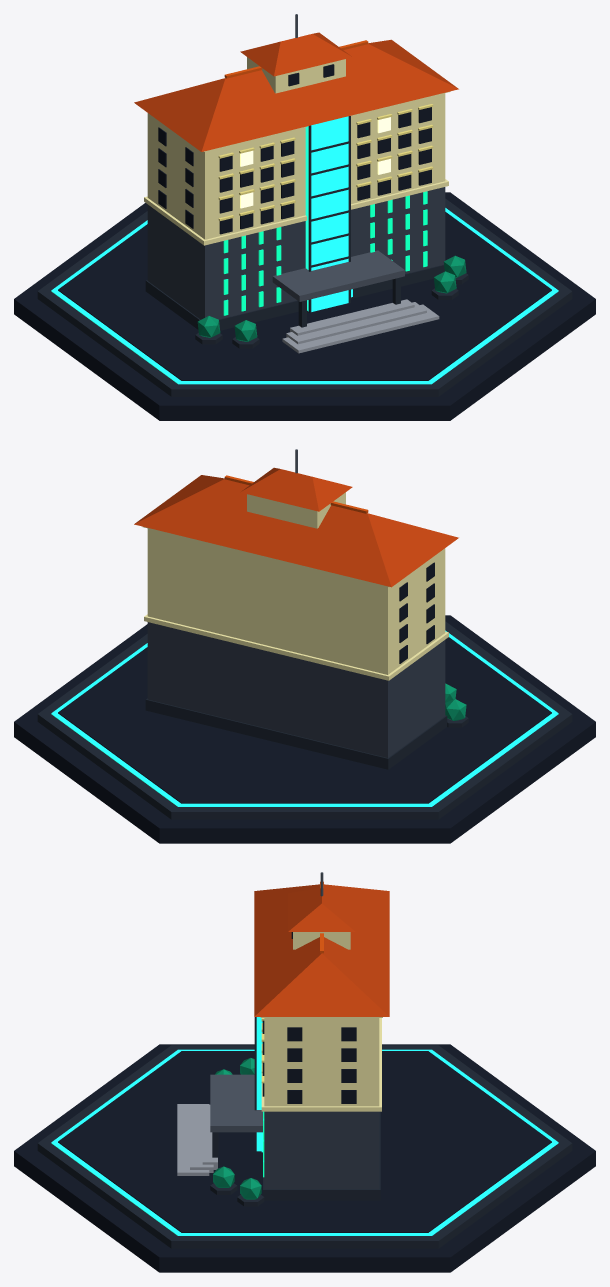
File: hcmussh_hq.glb
The picture shows the model from 3 angles, top to bottom: view 1: azimuth 30°, elevation 25°; view 2: azimuth 150°, elevation 25°; view 3: azimuth 270°, elevation 25°; orthographic projection.
Visible parts, largest first — view 1: Cylinder.003, Cylinder, Building_Lower_Charcoal, Main_Terracotta_Roof, Building_Upper_Cream, Cylinder.001, Central_Emerald_Spine, Cylinder.002, Entrance_Canopy, Pavilion_Roof, Cube, Cube.033 (+5 smaller); view 2: Cylinder.003, Building_Upper_Cream, Building_Lower_Charcoal, Cylinder, Main_Terracotta_Roof, Cylinder.001, Cube, Cylinder.002, Pavilion_Roof, Cube.033, Roof_Pavilion_Body; view 3: Cylinder.003, Cylinder, Main_Terracotta_Roof, Cylinder.001, Building_Lower_Charcoal, Building_Upper_Cream, Cylinder.002, Entrance_Canopy, Pavilion_Roof, Cube, Cube.129, Cube.033 (+4 smaller).
Part boxes in pixels (x1,y1,x2,y2): Cylinder.003: [58, 212, 551, 380]; Cylinder: [14, 192, 595, 420]; Building_Lower_Charcoal: [147, 187, 445, 319]; Main_Terracotta_Roof: [134, 39, 458, 151]; Building_Upper_Cream: [147, 93, 445, 239]; Cylinder.001: [37, 198, 572, 396]; Central_Emerald_Spine: [305, 116, 348, 311]; Cylinder.002: [51, 208, 558, 384]; Entrance_Canopy: [272, 250, 404, 301]; Pavilion_Roof: [240, 32, 352, 76]; Cube: [145, 264, 444, 330]; Cube.033: [144, 179, 448, 245]; Cylinder.003: [58, 637, 551, 803]; Building_Upper_Cream: [147, 528, 445, 674]; Building_Lower_Charcoal: [147, 622, 445, 757]; Cylinder: [14, 615, 595, 843]; Main_Terracotta_Roof: [134, 475, 458, 587]; Cylinder.001: [37, 621, 572, 819]; Cube: [145, 698, 447, 769]; Cylinder.002: [51, 630, 558, 806]; Pavilion_Roof: [240, 467, 352, 511]; Cube.033: [144, 614, 448, 680]; Roof_Pavilion_Body: [247, 492, 345, 528]; Cylinder.003: [58, 1051, 551, 1232]; Cylinder: [14, 1044, 595, 1272]; Main_Terracotta_Roof: [254, 884, 389, 1016]; Cylinder.001: [37, 1045, 572, 1248]; Building_Lower_Charcoal: [264, 1111, 379, 1189]; Building_Upper_Cream: [264, 1018, 379, 1106]; Cylinder.002: [51, 1049, 558, 1235]; Entrance_Canopy: [210, 1074, 262, 1132]; Pavilion_Roof: [288, 888, 355, 931]; Cube: [263, 1111, 380, 1200]; Cube.129: [177, 1104, 209, 1175]; Cube.033: [261, 1018, 381, 1111].
Size of the model in its own units: 17.32 by 11.13 by 20.
